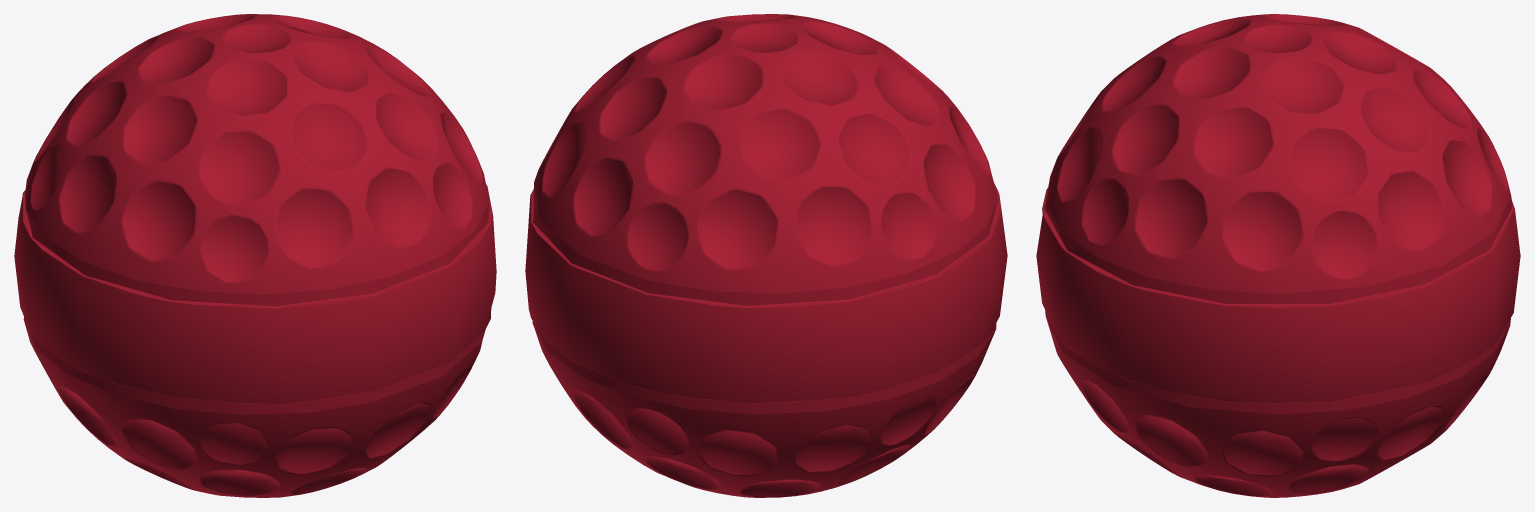
File: BallRed.obj
The picture shows the model from 3 angles, left to right: view 1: azimuth 30°, elevation 25°; view 2: azimuth 150°, elevation 25°; view 3: azimuth 270°, elevation 25°; orthographic projection.
Parts seen in each view (by area): view 1: Solid1; view 2: Solid1; view 3: Solid1.
Boxes of the visible parts, x1,y1,x2,y2 form: Solid1: [14, 14, 496, 497]; Solid1: [525, 14, 1007, 497]; Solid1: [1036, 14, 1520, 497].
Size of the model in its own units: 156 by 158 by 160.
